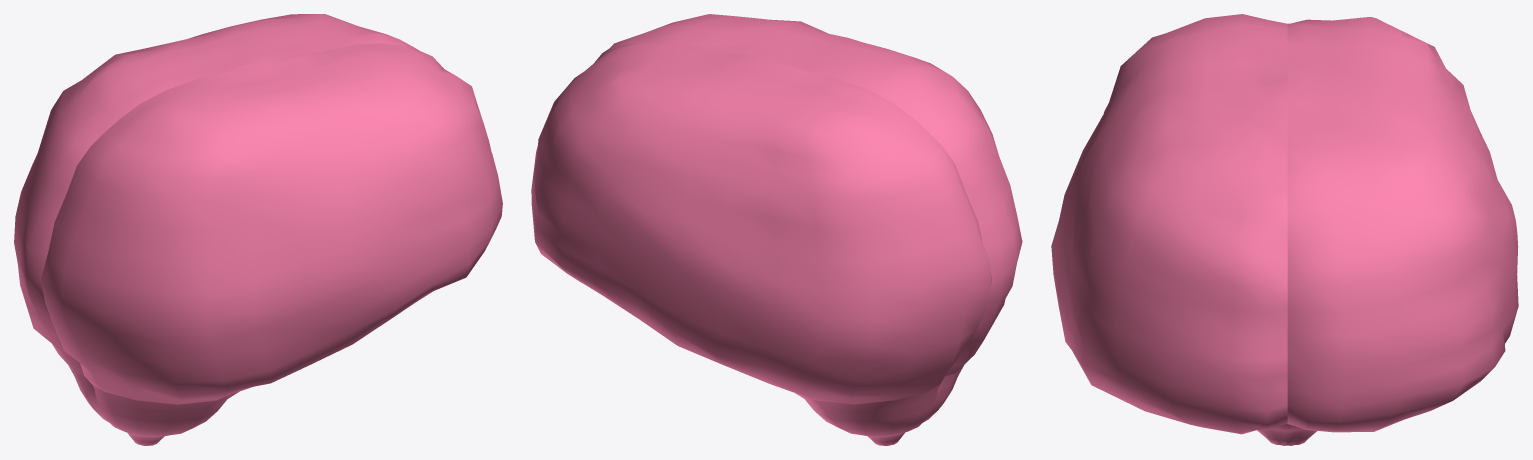
File: BRAIN.glb
The picture shows the model from 3 angles, left to right: view 1: azimuth 30°, elevation 25°; view 2: azimuth 150°, elevation 25°; view 3: azimuth 270°, elevation 25°; orthographic projection. The views are drawn at different scales.
Visible parts, largest first — view 1: BRAIN; view 2: BRAIN; view 3: BRAIN.
Boxes of the visible parts, x1,y1,x2,y2 form: BRAIN: (14, 14, 502, 445); BRAIN: (531, 14, 1022, 445); BRAIN: (1051, 14, 1518, 445).
Size of the model in its own units: 2.86 by 2.23 by 2.16.
